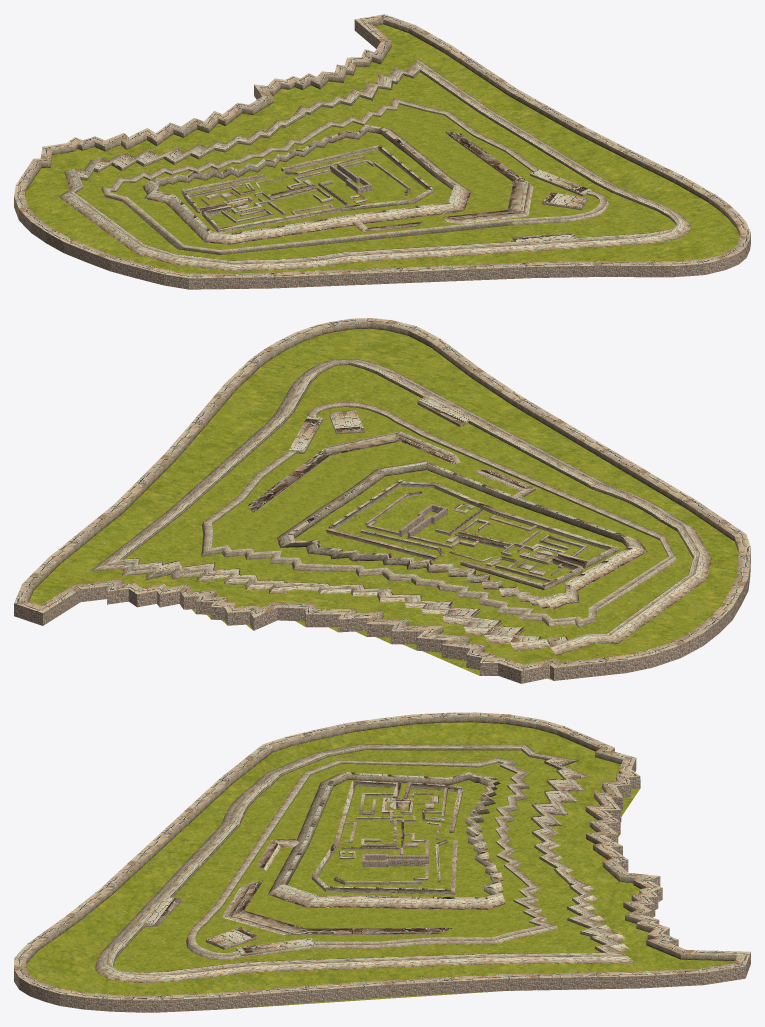
Rendered from sacsaywaman2.fbx.
The picture shows the model from 3 angles, top to bottom: view 1: azimuth 30°, elevation 25°; view 2: azimuth 150°, elevation 25°; view 3: azimuth 270°, elevation 25°; orthographic projection. The views are drawn at different scales.
Parts seen in each view (by area): view 1: PastoN1, Nivel1, PastoN2, Nivel2, PastoN3, Nivel4Pasto, MurosN4, Nivel3, Nivel5, Plano.005, Cubo.055, Cubo.030 (+1 smaller); view 2: PastoN1, Nivel1, PastoN2, PastoN3, Nivel2, Nivel4Pasto, Nivel3, MurosN4, Nivel5, Plano.005, Cubo.030, Cubo.056 (+2 smaller); view 3: PastoN1, Nivel1, PastoN2, Nivel2, PastoN3, Nivel4Pasto, MurosN4, Nivel3, Nivel5, Plano.005, Cubo.030, Cubo.055 (+3 smaller).
Part boxes in pixels (x1,y1,x2,y2): PastoN1: (25,24,739,273); Nivel1: (14,14,750,289); PastoN2: (76,72,676,260); Nivel2: (59,60,690,271); PastoN3: (110,104,599,249); Nivel4Pasto: (159,132,452,233); MurosN4: (142,125,471,244); Nivel3: (101,98,608,254); Nivel5: (181,145,433,232); Plano.005: (442,131,533,223); Cubo.055: (530,169,591,196); Cubo.030: (330,163,372,193); PastoN1: (29,328,738,664); Nivel1: (14,318,750,683); PastoN2: (125,365,692,639); PastoN3: (212,407,668,618); Nivel2: (90,358,711,655); Nivel4Pasto: (294,470,626,597); Nivel3: (201,402,675,627); MurosN4: (277,461,647,609); Nivel5: (326,479,618,589); Plano.005: (248,431,460,512); Cubo.030: (399,504,447,538); Cubo.056: (417,395,470,427); PastoN1: (26,722,734,995); Nivel1: (14,712,750,1012); PastoN2: (113,750,602,972); Nivel2: (95,744,635,982); PastoN3: (195,763,538,952); Nivel4Pasto: (287,780,492,897); MurosN4: (267,772,505,909); Nivel3: (186,757,557,959); Nivel5: (311,780,462,894); Plano.005: (222,880,452,935); Cubo.030: (362,854,428,867); Cubo.055: (236,938,315,955).
Size of the model in its own units: 72511 by 1970 by 78450.
